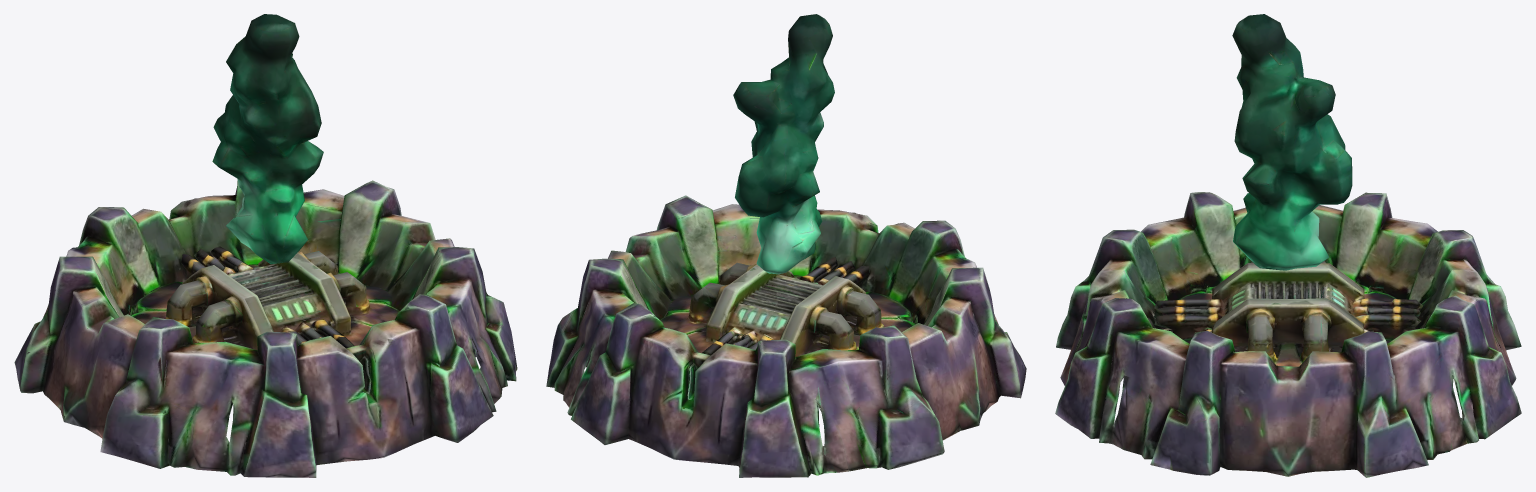
The model's file is vespene.glb.
3 views of the same model, side by side, from view 1: azimuth 30°, elevation 25°; view 2: azimuth 150°, elevation 25°; view 3: azimuth 270°, elevation 25° (orthographic). The views are drawn at different scales.
Parts seen in each view (by area): view 1: Mesh1.0; view 2: Mesh1.0; view 3: Mesh1.0.
Part boxes in pixels (x1,y1,x2,y2): Mesh1.0: (14,14,517,477); Mesh1.0: (546,14,1026,477); Mesh1.0: (1055,14,1521,477).
Size of the model in its own units: 1.9 by 1.63 by 1.92.
1 material, 1 textured.
